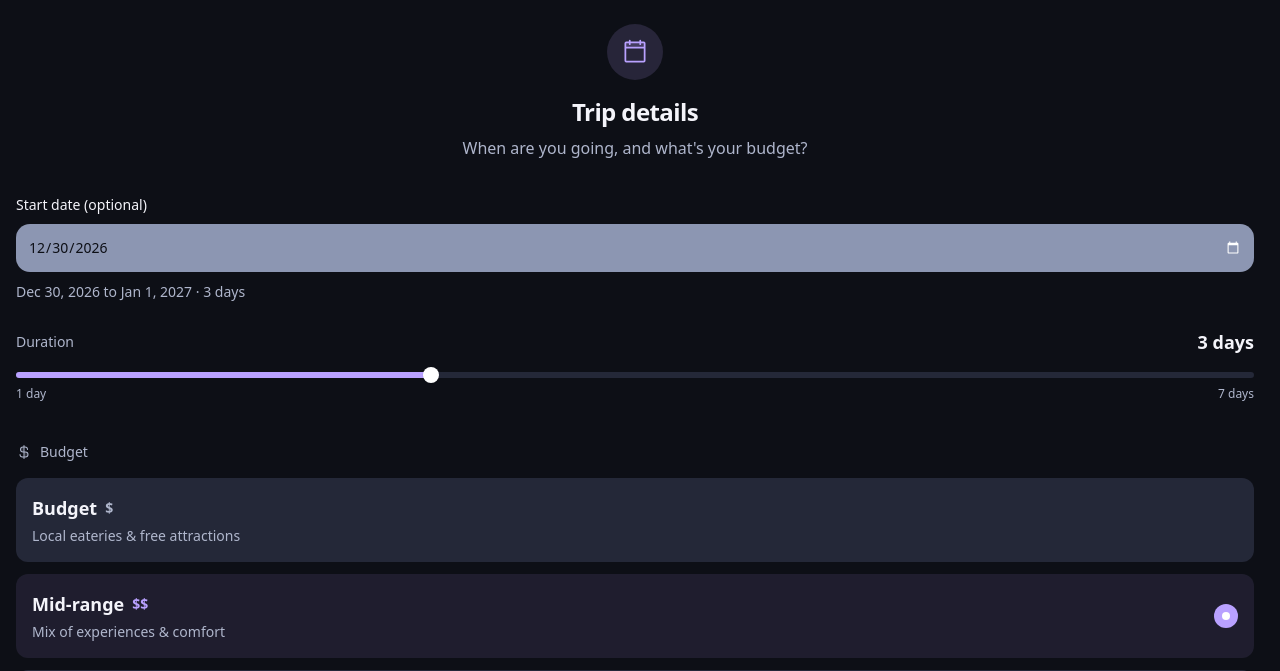
Test case: optional planner dates › lets a visitor leave dates flexible and clear a chosen date
This screenshot has width=1280, height=671.
Step 1. Clear the date field labelled "Start date (optional)" → (635, 248), box [16,224,1254,272]
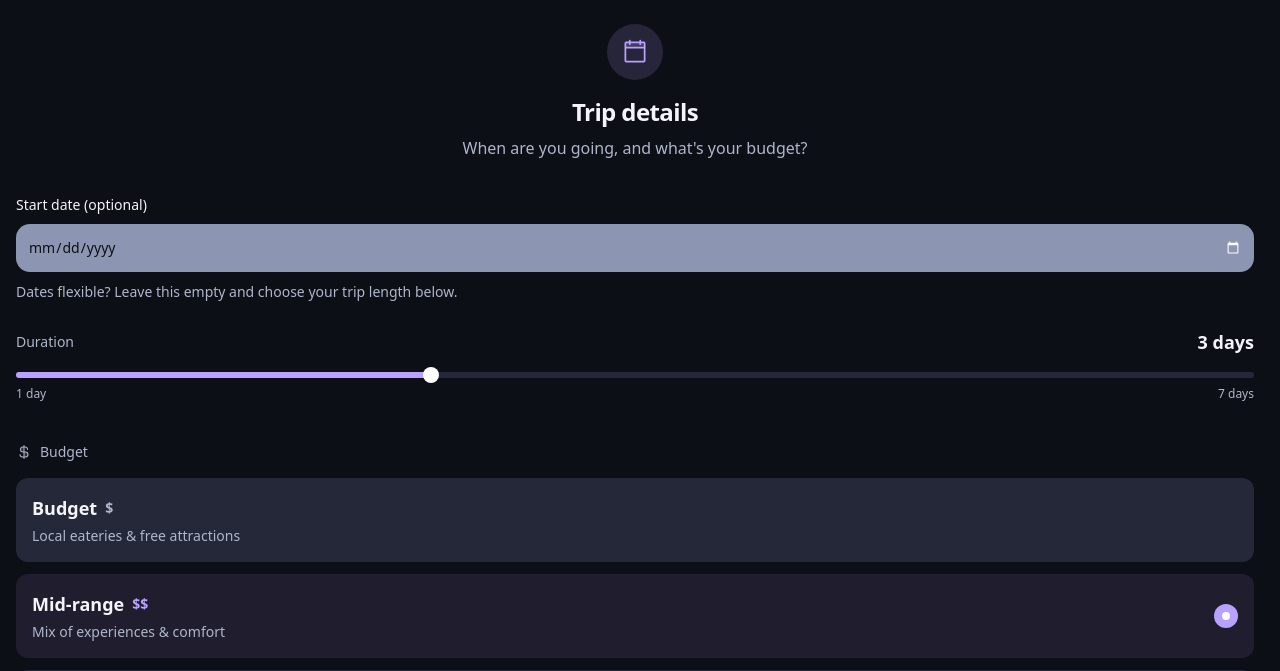
Check: the message shows "Dates flexible?", box [16,282,457,301]
